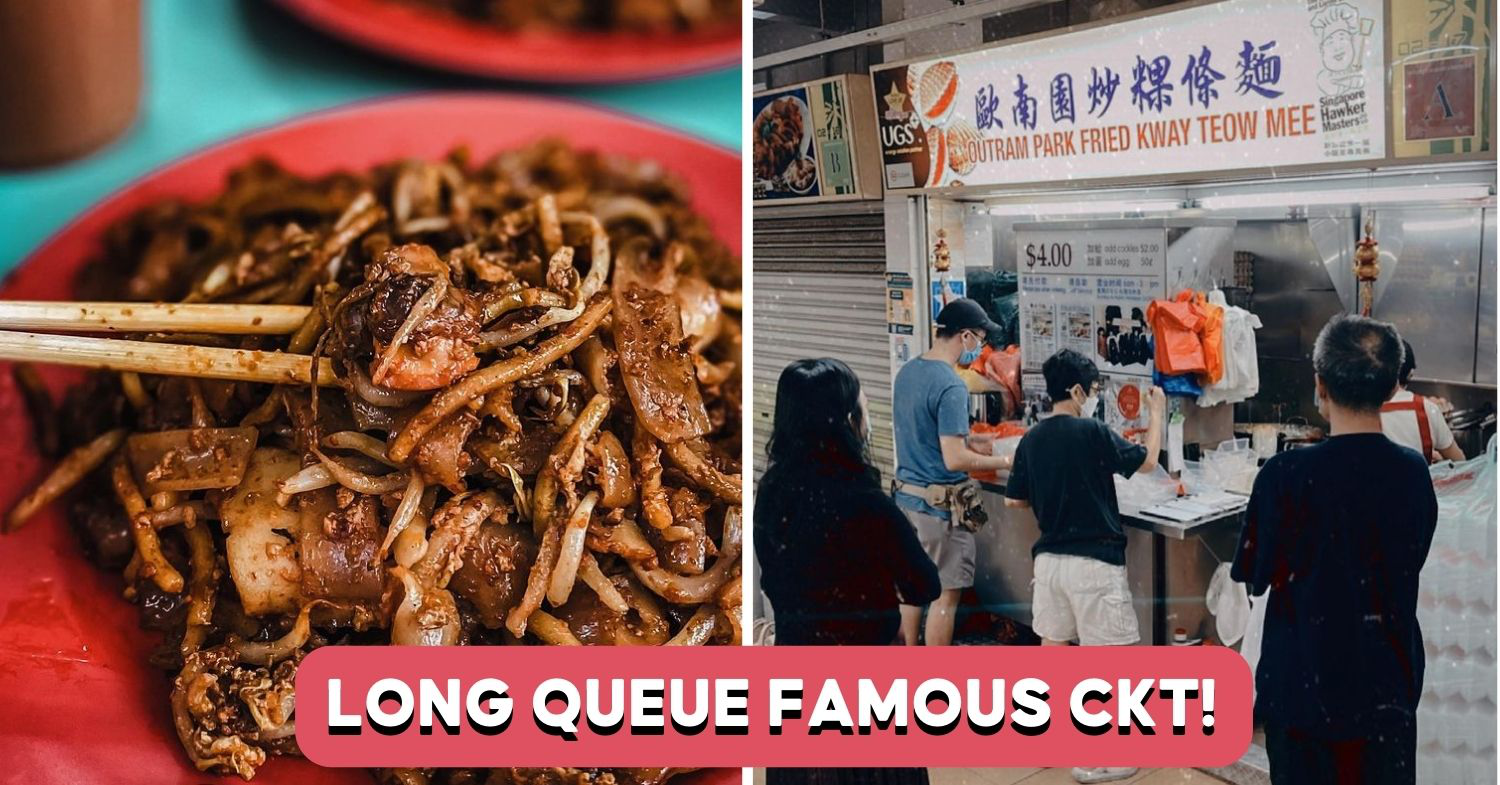Char Kway Teow: (44, 101, 739, 655)
